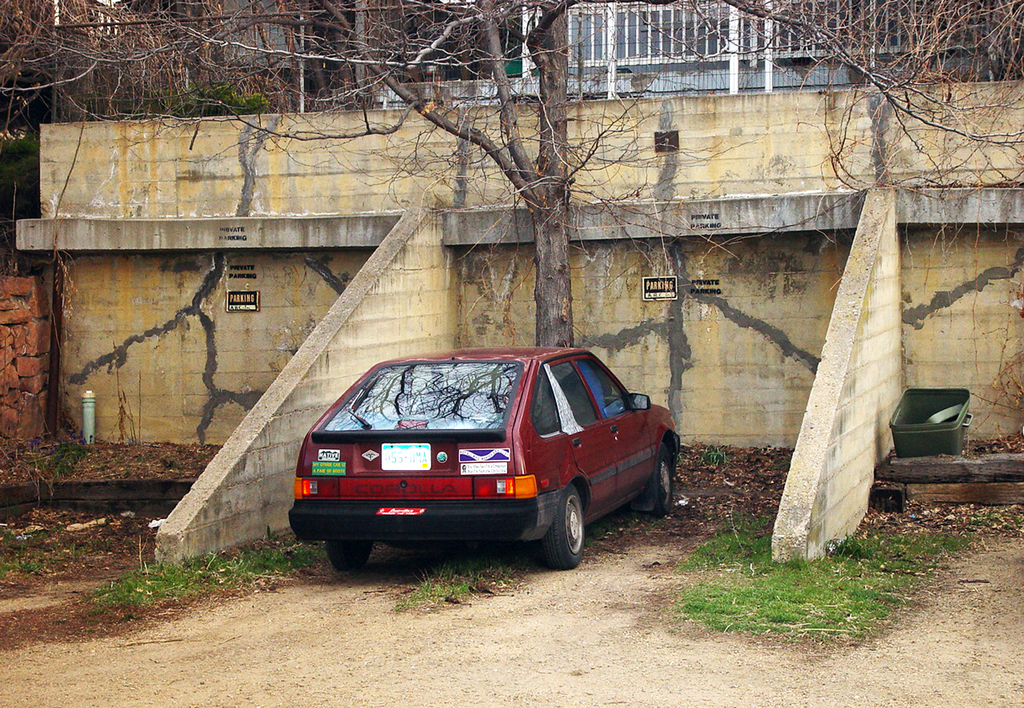Car: (286, 345, 685, 576)
